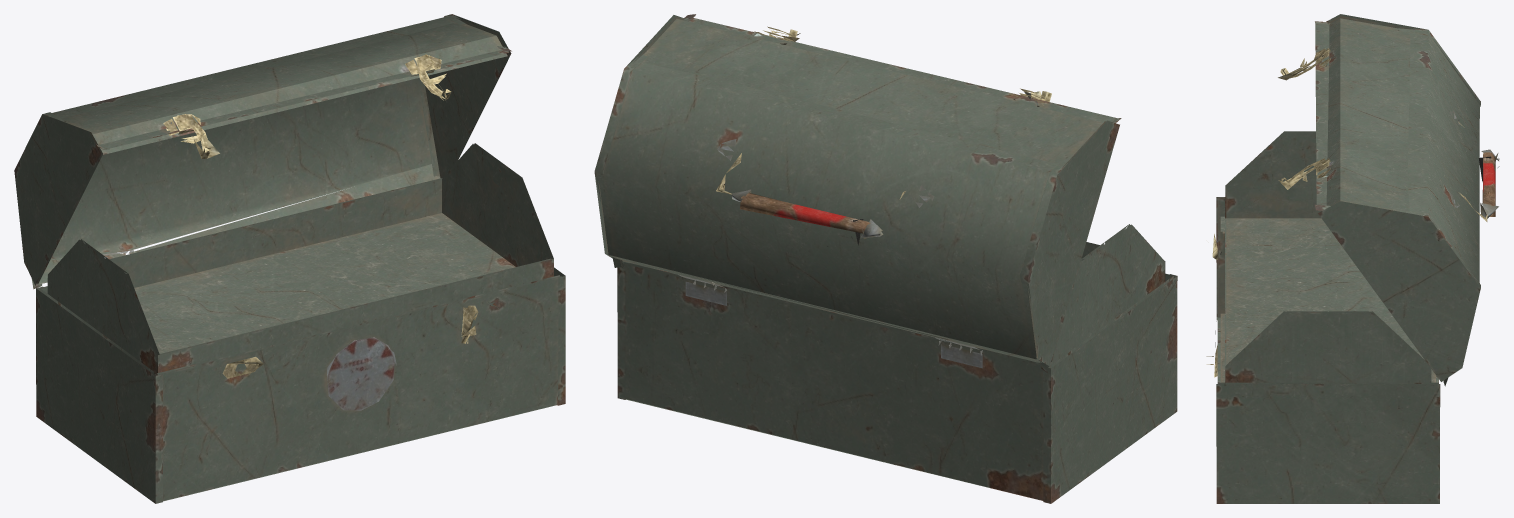
The model's file is toolbox.glb.
3 views of the same model, side by side, from view 1: azimuth 30°, elevation 25°; view 2: azimuth 150°, elevation 25°; view 3: azimuth 270°, elevation 25° (orthographic). The views are drawn at different scales.
Visible parts, largest first — view 1: metal_toolbox; view 2: metal_toolbox; view 3: metal_toolbox.
Part boxes in pixels (x1,y1,x2,y2): metal_toolbox: [14, 14, 565, 503]; metal_toolbox: [594, 14, 1177, 503]; metal_toolbox: [1206, 14, 1499, 503].
Bounding box in the file's own units: 0.4 × 0.3045 × 0.2654.
Materials: 1 (1 with a texture image).
